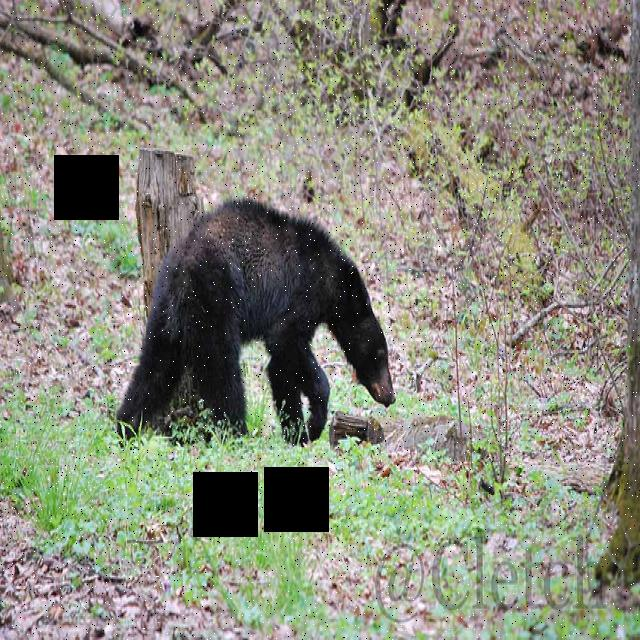Bear: (110, 185, 398, 451)
